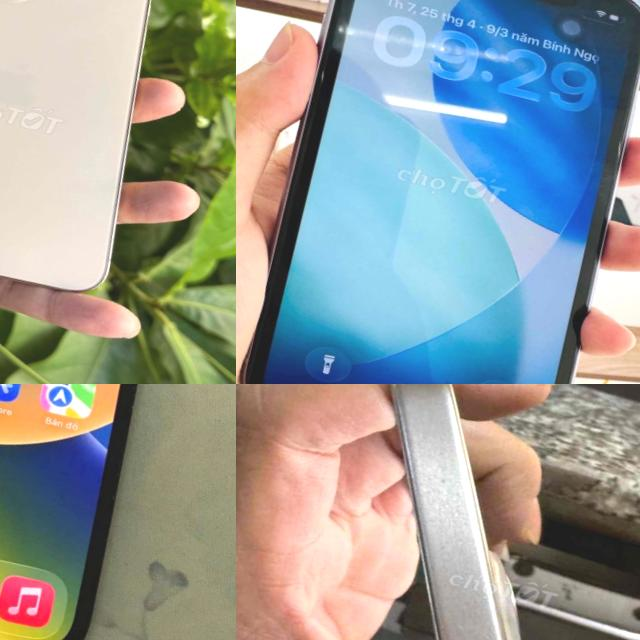gen_11: (236, 0, 640, 384)
gen_12_13: (0, 0, 197, 314), (0, 384, 236, 640)
gen_15: (279, 384, 639, 640)
